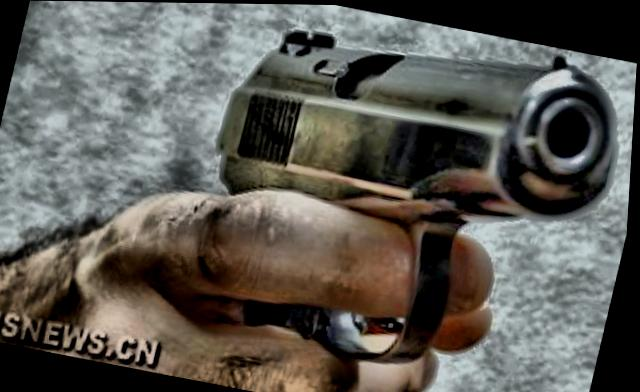pistol: (173, 2, 636, 391)
